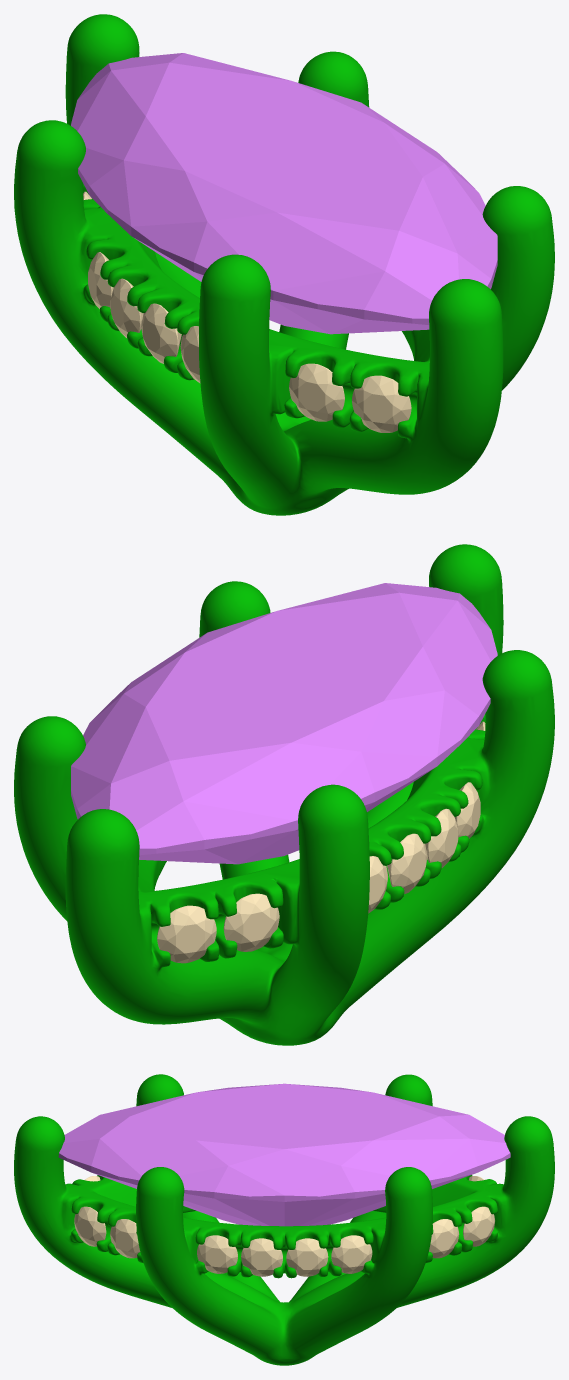
3 renders of one model, top to bottom at view 1: azimuth 30°, elevation 25°; view 2: azimuth 150°, elevation 25°; view 3: azimuth 270°, elevation 25°, orthographic. The views are drawn at different scales.
Parts seen in each view (by area): view 1: Metal01, Diamond_Marquise, Diamond_Round.006, Diamond_Round.007, Diamond_Round.010, Diamond_Round.009, Diamond_Round.008, Diamond_Round.011; view 2: Metal01, Diamond_Marquise, Diamond_Round.005, Diamond_Round.004, Diamond_Round.009, Diamond_Round.010, Diamond_Round.011, Diamond_Round.008; view 3: Metal01, Diamond_Marquise, Diamond_Round.014, Diamond_Round.013, Diamond_Round.015, Diamond_Round.012, Diamond_Round.001, Diamond_Round, Diamond_Round.002, Diamond_Round.003.
Part boxes in pixels (<box>): Metal01: <box>14,14,554,515</box>; Diamond_Marquise: <box>71,53,497,334</box>; Diamond_Round.006: <box>352,375,411,432</box>; Diamond_Round.007: <box>289,363,344,421</box>; Diamond_Round.010: <box>141,303,181,363</box>; Diamond_Round.009: <box>110,278,143,337</box>; Diamond_Round.008: <box>88,252,113,308</box>; Diamond_Round.011: <box>180,326,200,383</box>; Metal01: <box>14,544,554,1045</box>; Diamond_Marquise: <box>71,583,497,864</box>; Diamond_Round.005: <box>157,905,216,963</box>; Diamond_Round.004: <box>223,893,279,951</box>; Diamond_Round.009: <box>387,833,427,893</box>; Diamond_Round.010: <box>425,808,458,867</box>; Diamond_Round.011: <box>454,782,480,838</box>; Diamond_Round.008: <box>368,856,388,913</box>; Metal01: <box>14,1074,554,1365</box>; Diamond_Marquise: <box>58,1083,510,1226</box>; Diamond_Round.014: <box>286,1238,328,1276</box>; Diamond_Round.013: <box>241,1238,282,1276</box>; Diamond_Round.015: <box>331,1235,372,1273</box>; Diamond_Round.012: <box>197,1235,237,1273</box>; Diamond_Round.001: <box>74,1206,106,1246</box>; Diamond_Round: <box>110,1219,140,1258</box>; Diamond_Round.002: <box>463,1206,494,1246</box>; Diamond_Round.003: <box>429,1219,459,1258</box>.
Size of the model in its own units: 6.74 by 6.69 by 13.51.
